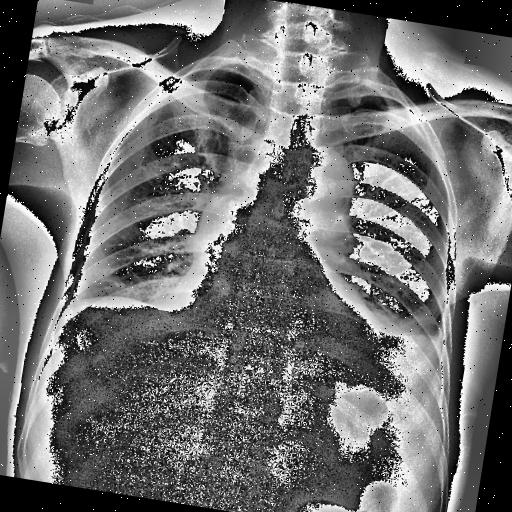0- Aortic enlargement: (280, 140, 362, 238), (276, 139, 360, 227), (280, 140, 360, 230)
10- Pleural effusion: (353, 300, 453, 400), (382, 311, 454, 375), (372, 324, 450, 372), (58, 286, 82, 314)
11- Pleural thickening: (400, 106, 434, 142), (58, 286, 82, 314)
